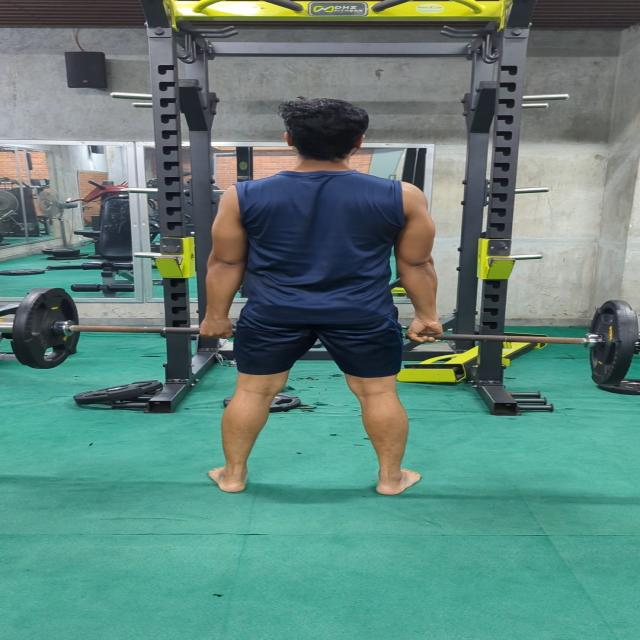Normal_Deadlifts: (196, 95, 448, 502)
